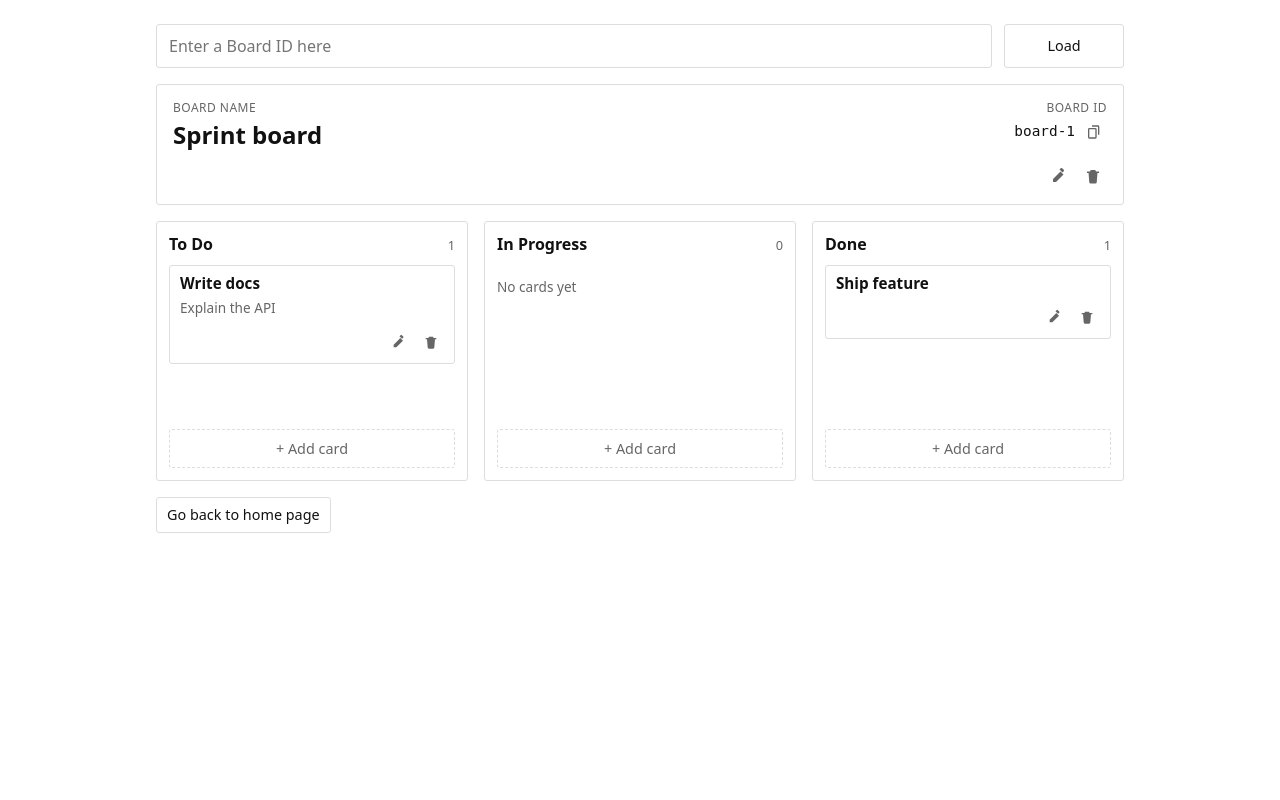
Test: BoardPage › prefills the form when editing an existing card
This screenshot has width=1280, height=800.
Step 1. Click the button named "edit card write docs" → coordinates (399, 342), box [386,328,412,354]
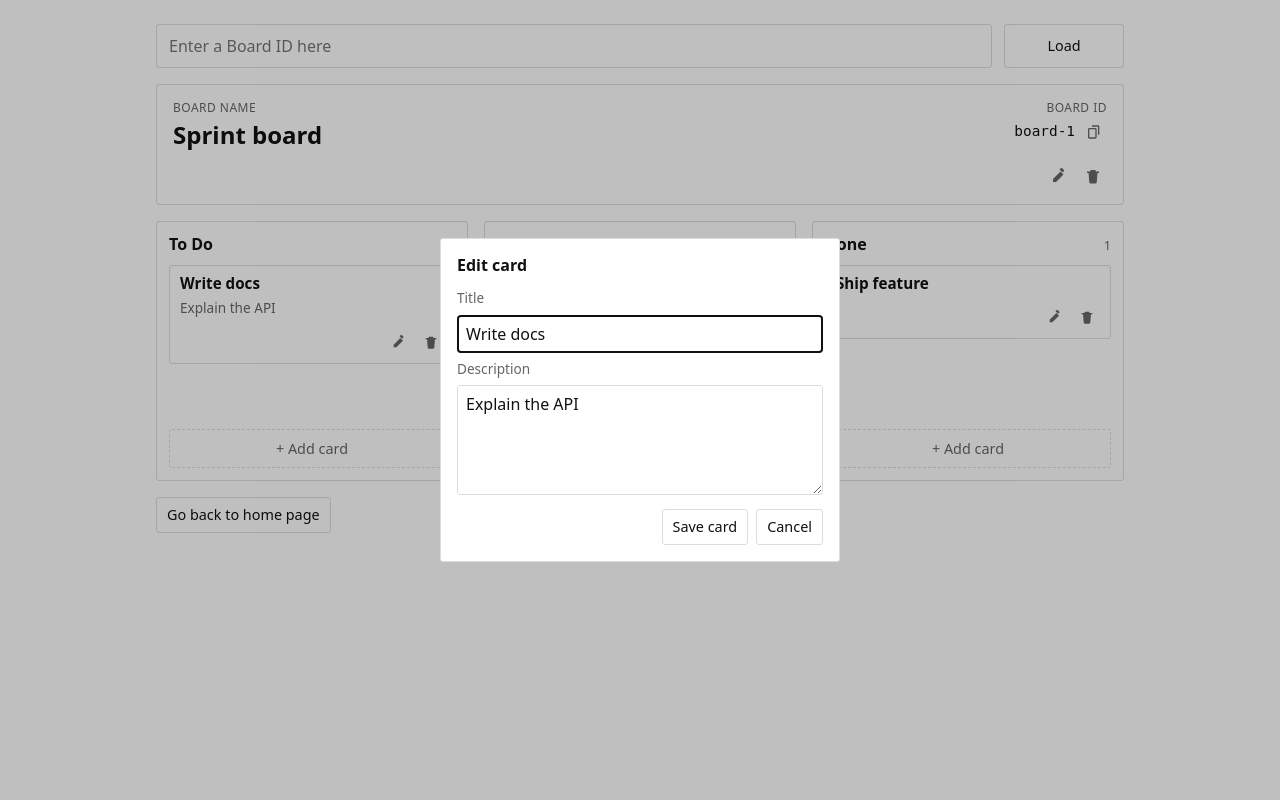
Now the field labelled "Title" holds "Write docs", box [457,315,823,353]
Now the text box labelled "Description" holds "Explain the API", box [457,385,823,495]
